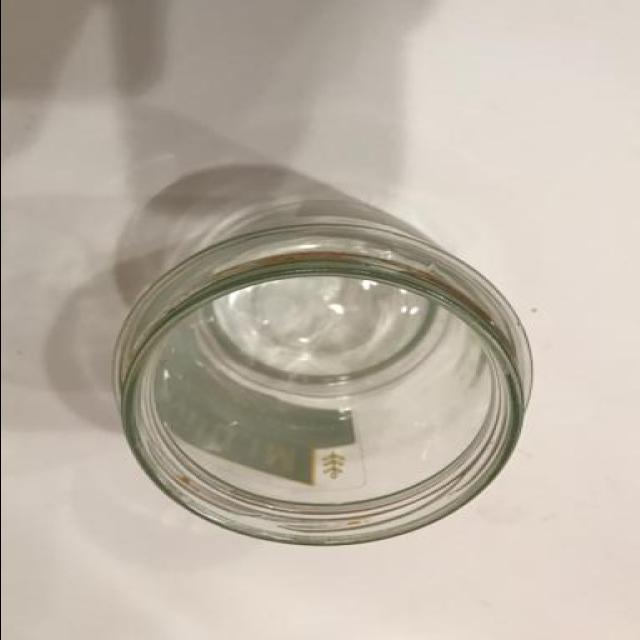glass: (89, 160, 538, 554)
